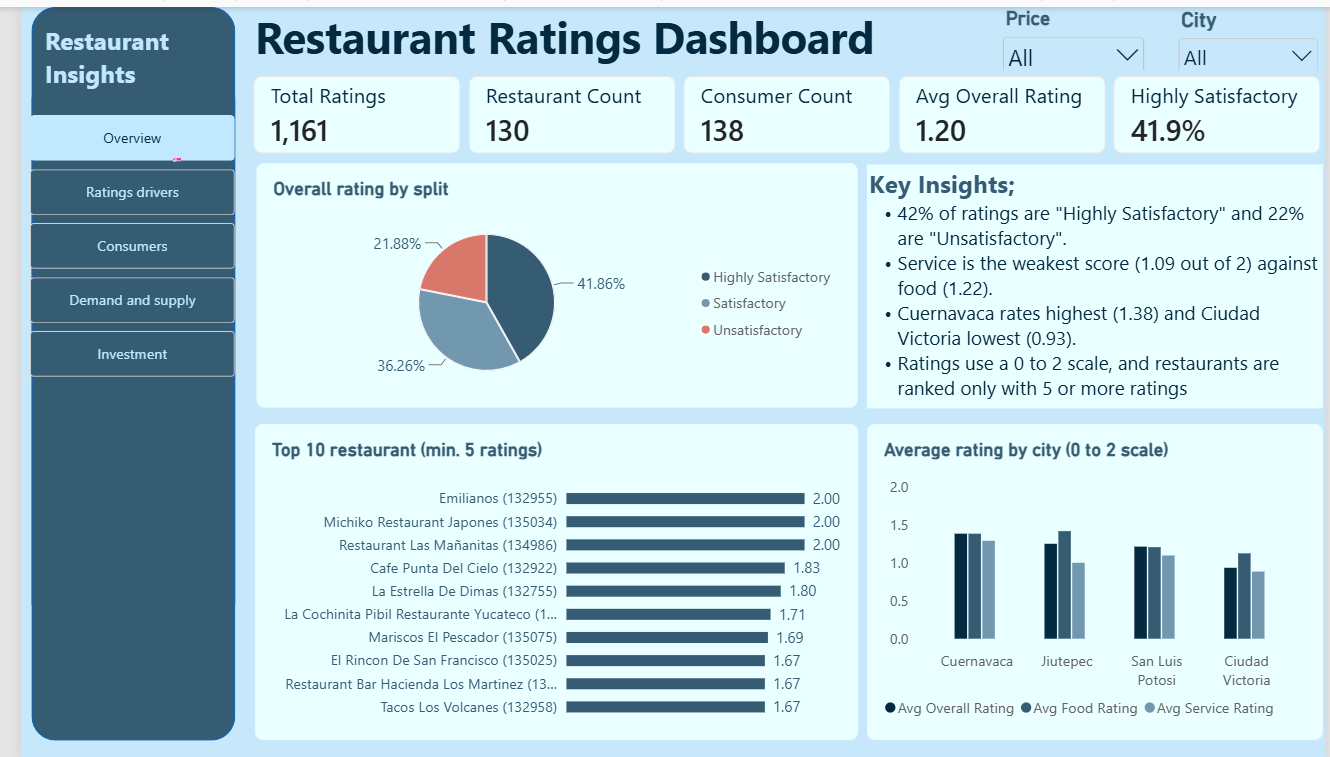

Layout of this report page (visuals, bound fields, positions):
{"tool":"powerbi","page":{"name":"Overview","canvas":[1280,740],"ordinal":0},"visuals":[{"type":"shape","box":[9.8,0,200,720],"z":0},{"type":"textbox","box":[22.9,16.3,173.3,89.9],"z":1000},{"type":"pageNavigator","box":[9.5,106.5,201.2,260.3],"z":2000},{"type":"textbox","box":[229.6,0,1050.9,82.8],"z":3000},{"type":"pieChart","title":"Overall rating by split","fields":{"Category":["Ratings.Overall_Label"],"Y":["Measures (2).Total Ratings"]},"box":[230.5,153.7,590.2,240.3],"z":4000},{"type":"lineClusteredColumnComboChart","title":"Average rating by city (0 to 2 scale)","fields":{"Category":["Restaurants.City"],"Y":["Measures (2).Avg Overall Rating","Measures (2).Avg Food Rating","Measures (2).Avg Service Rating"]},"box":[830.8,409.5,447.3,310.1],"z":5000},{"type":"clusteredBarChart","title":"Top 10 restaurant (min. 5 ratings)","fields":{"Category":["Restaurants.Restaurant_Label"],"Y":["Measures (2).Avg Rating (min 5 ratings)"]},"box":[229.6,409.5,591.7,310.1],"z":6000},{"type":"slicer","fields":{"Values":["Restaurants.City"]},"box":[1131.3,0,147.1,62.1],"z":7000},{"type":"slicer","fields":{"Values":["Restaurants.Price"]},"box":[958,0,148.8,62.1],"z":8000},{"type":"cardVisual","fields":{"Data":["Measures (2).Total Ratings","Measures (2).Restaurant Count","Measures (2).Consumer Count","Measures (2).Avg Overall Rating","Measures (2).% Highly Satisfactory"]},"box":[228.9,67,1049.5,76.8],"z":9000},{"type":"textbox","box":[830.8,153.8,447.3,239],"z":10000}]}

Visuals, with their boxes in screenshot pixels (x1, y1, x2, y2), scaled from the page's 1280x740 canvas onto the 1330x757 screenshot:
shape: [10, 0, 218, 737]
textbox: [24, 17, 204, 109]
pageNavigator: [10, 109, 219, 375]
textbox: [239, 0, 1329, 85]
"Overall rating by split" pieChart: [240, 157, 853, 403]
"Average rating by city (0 to 2 scale)" lineClusteredColumnComboChart: [863, 419, 1328, 736]
"Top 10 restaurant (min. 5 ratings)" clusteredBarChart: [239, 419, 853, 736]
slicer - Restaurants.City: [1175, 0, 1328, 64]
slicer - Restaurants.Price: [995, 0, 1150, 64]
cardVisual - Measures (2).Total Ratings x Measures (2).Restaurant Count: [238, 69, 1328, 147]
textbox: [863, 157, 1328, 402]
